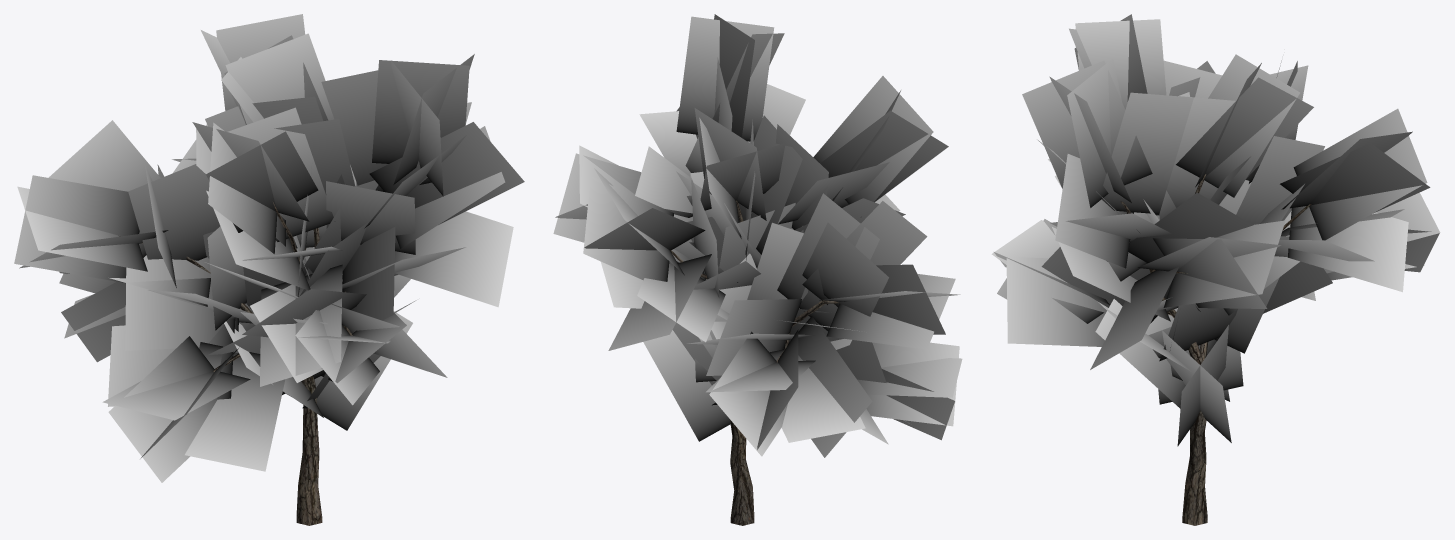
Rendered from tree13A.fbx.
3 renders of one model, left to right at view 1: azimuth 30°, elevation 25°; view 2: azimuth 150°, elevation 25°; view 3: azimuth 270°, elevation 25°, orthographic. The views are drawn at different scales.
Parts seen in each view (by area): view 1: tree13A_leafs, tree13A_leafs_flip, tree13A_trunk; view 2: tree13A_leafs, tree13A_leafs_flip, tree13A_trunk; view 3: tree13A_leafs, tree13A_leafs_flip, tree13A_trunk.
Part boxes in pixels (x1,y1,x2,y2): tree13A_leafs: [14, 14, 524, 482]; tree13A_leafs_flip: [14, 15, 522, 481]; tree13A_trunk: [119, 202, 352, 525]; tree13A_leafs: [553, 14, 962, 457]; tree13A_leafs_flip: [554, 14, 961, 457]; tree13A_trunk: [670, 200, 840, 525]; tree13A_leafs: [991, 14, 1440, 446]; tree13A_leafs_flip: [993, 15, 1439, 443]; tree13A_trunk: [1120, 174, 1311, 525].
Bounding box in the file's own units: 11.9 × 12.66 × 10.82.
